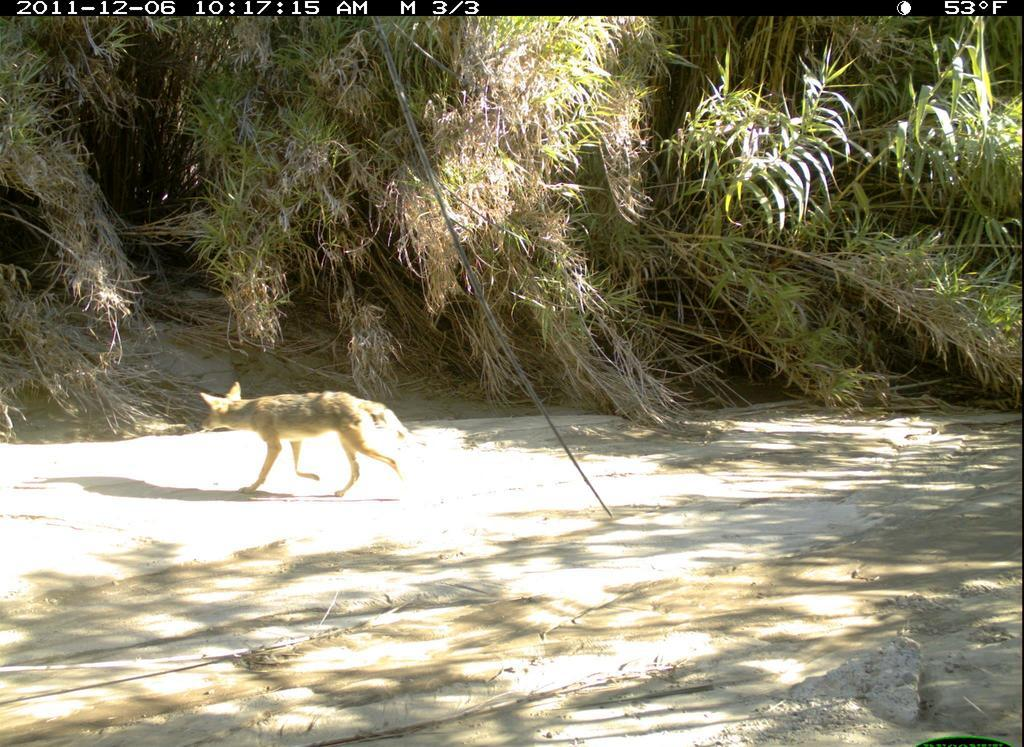coyote: (187, 376, 425, 501)
